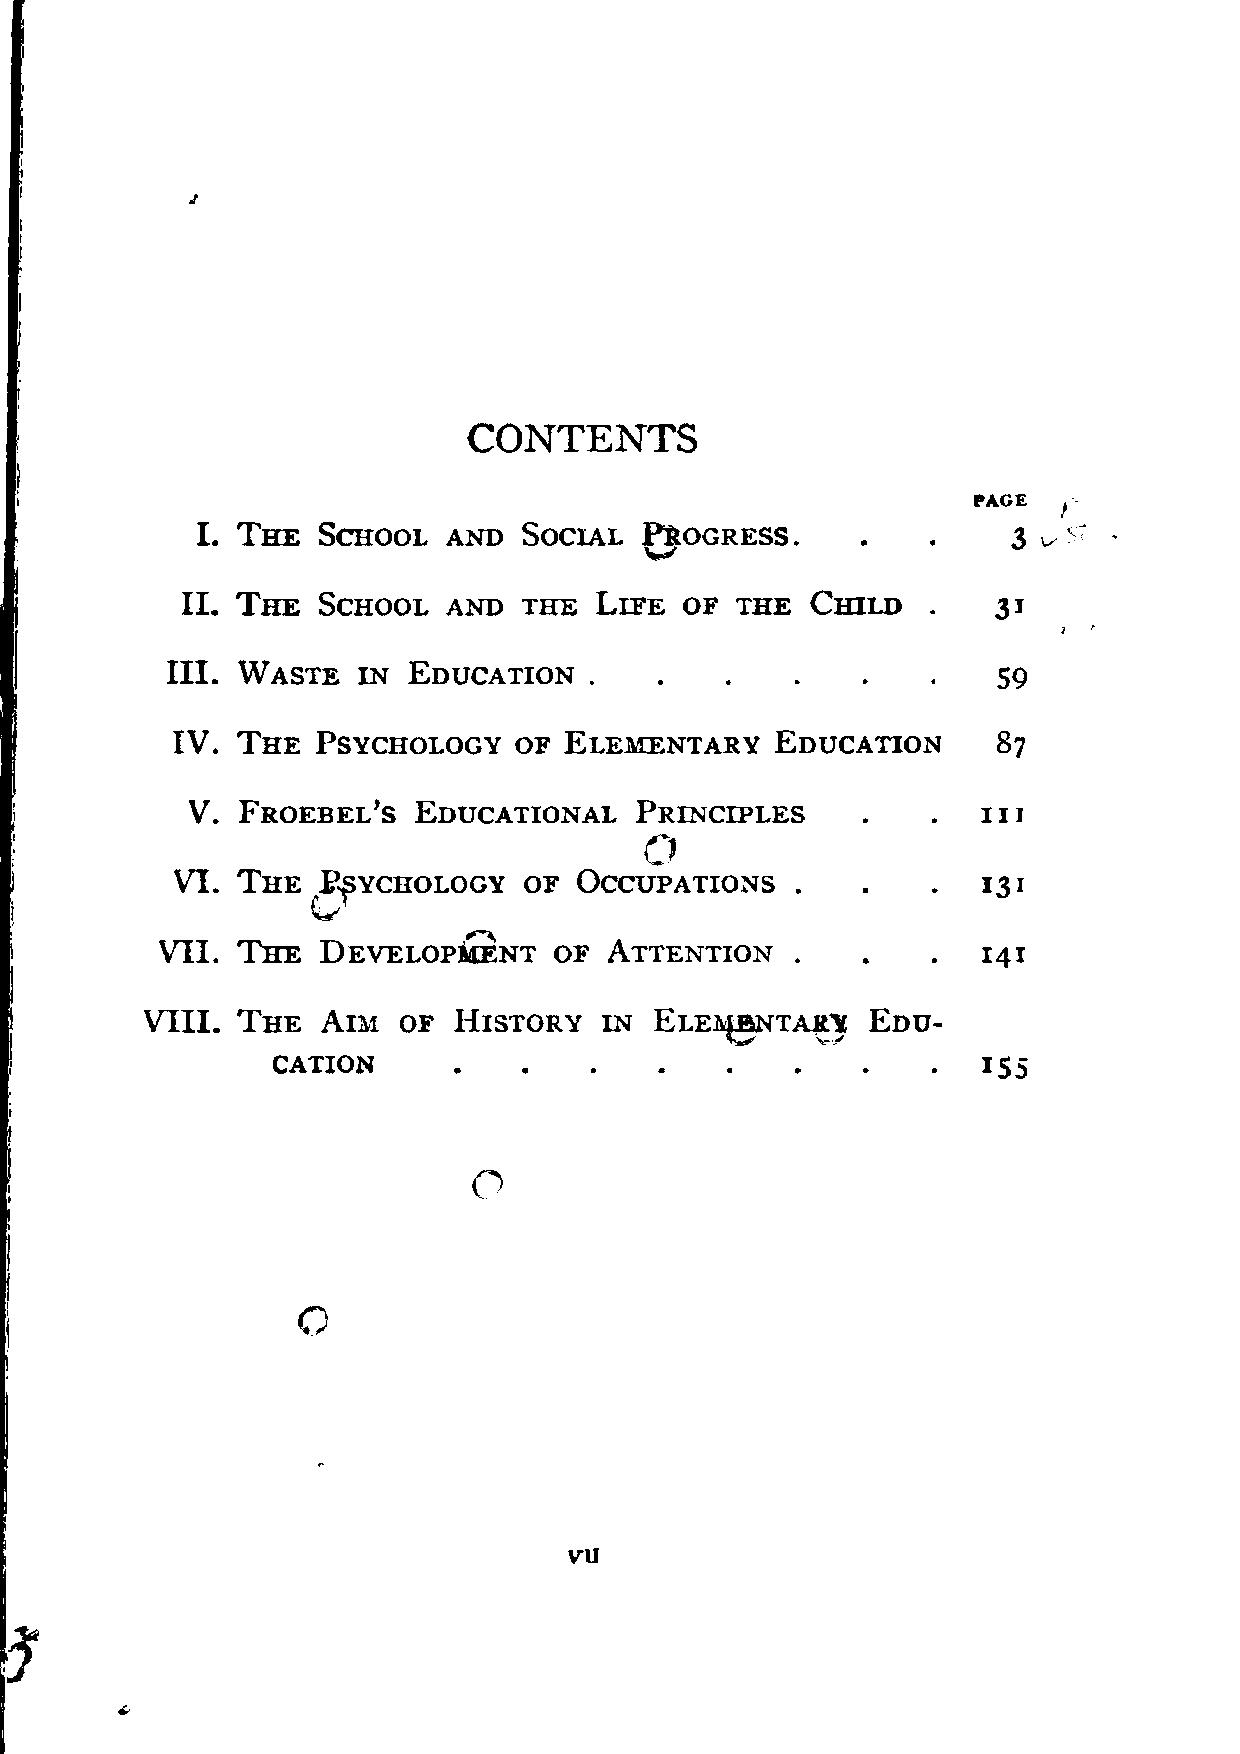TOC_chapter: (138, 1005, 946, 1082), (191, 513, 798, 558), (169, 723, 945, 757), (181, 586, 906, 621), (183, 792, 809, 832), (166, 863, 782, 900), (153, 933, 773, 968), (161, 654, 580, 695)
TOC_pagenumber: (976, 1049, 1032, 1084), (977, 868, 1031, 902), (976, 939, 1031, 972), (992, 660, 1032, 692), (992, 595, 1035, 623), (980, 805, 1027, 831), (994, 727, 1025, 760), (1006, 523, 1033, 553)
chapter: (468, 417, 713, 458)
content_pagenumber: (558, 1541, 605, 1567)
